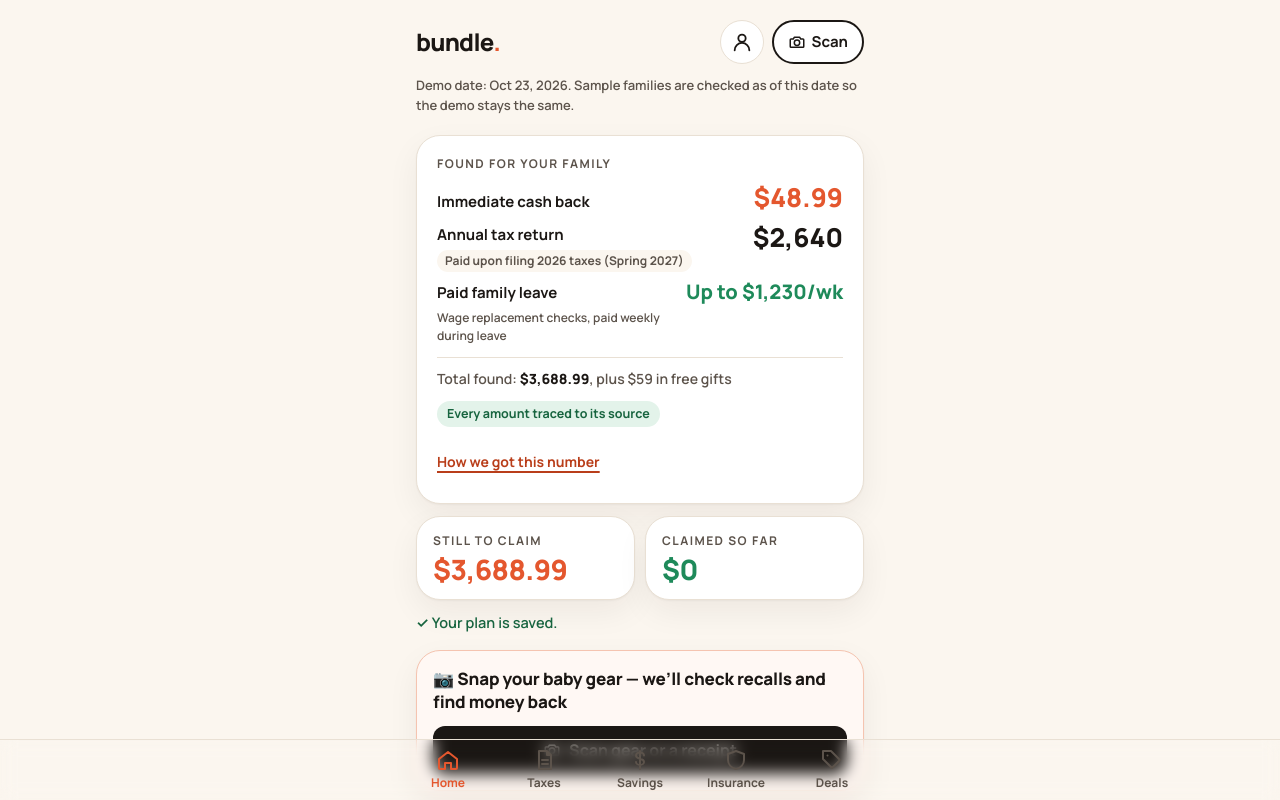
Scenario: Insurance tab follows the insurance answer › Medicaid: covered for a year, a to-do, no countdown
Click the button "Insurance". click: click(736, 770)
box: [688,740,784,799]
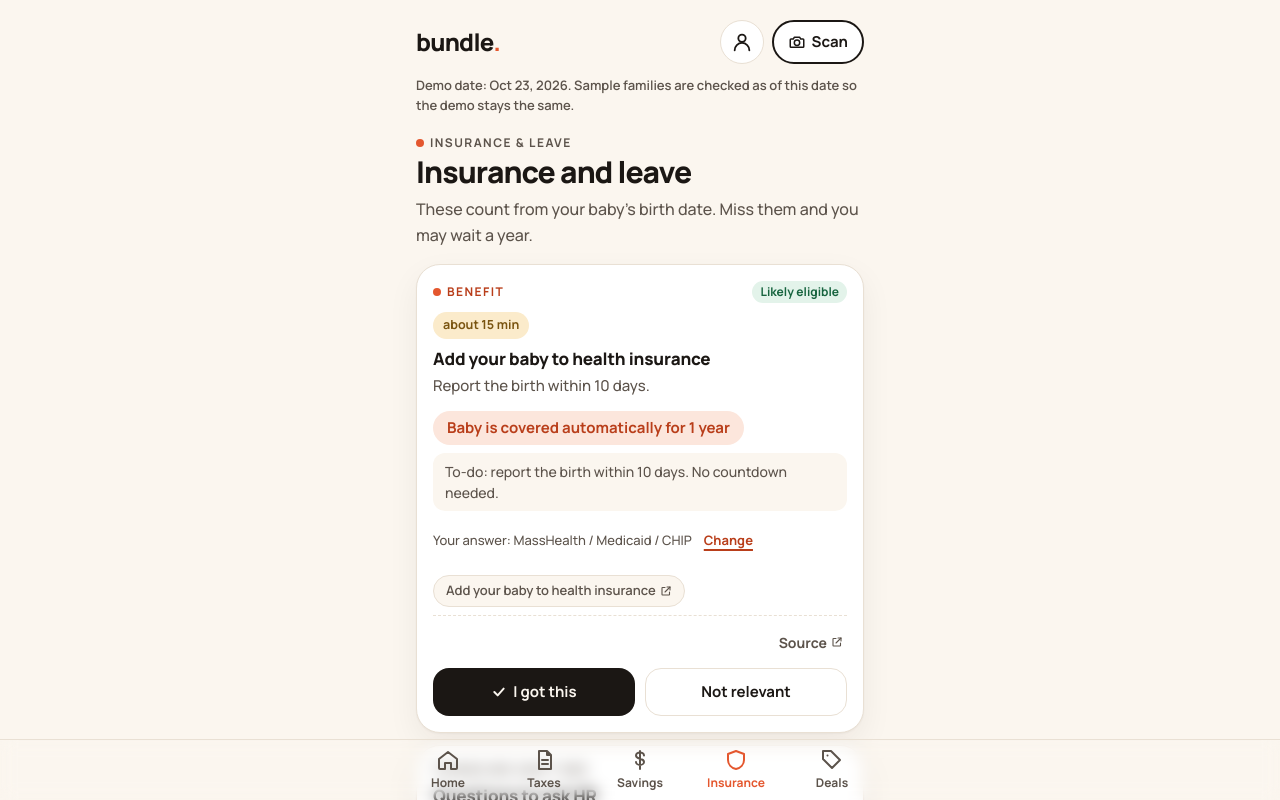
Result: the text with test id "countdown-pill" reads "Baby is covered automatically for 1 year" at [447,416,730,438]
Result: the element "Add your baby to health insurance" shows "report the birth within 10 days" at [433,375,650,396]
